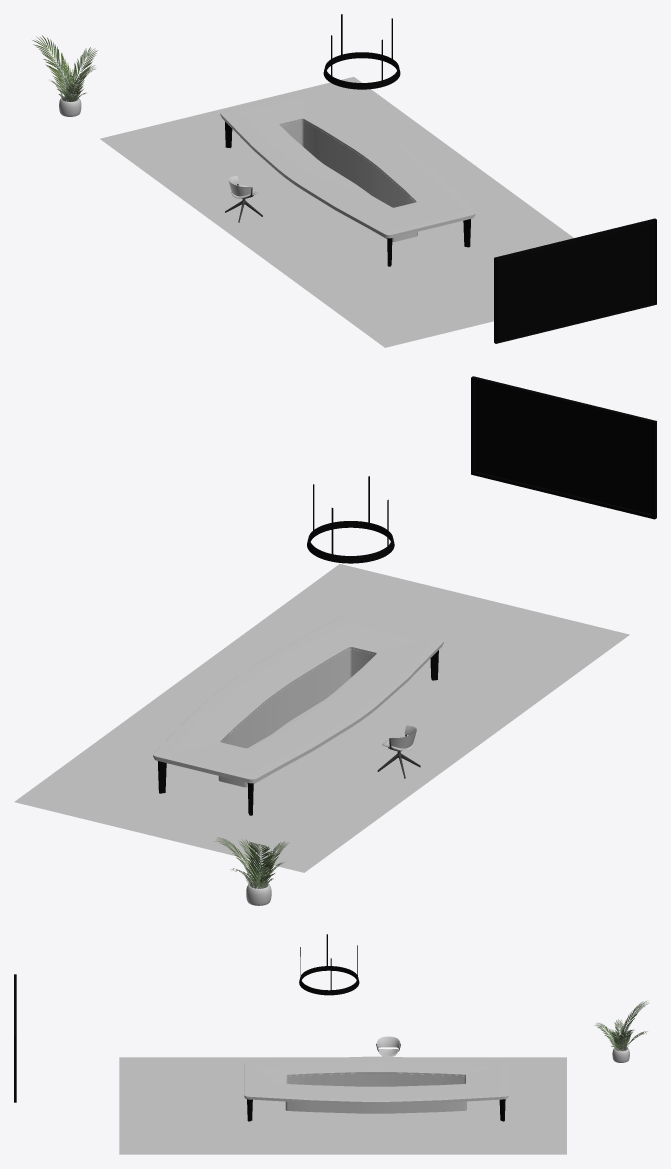
The picture shows the model from 3 angles, top to bottom: view 1: azimuth 30°, elevation 25°; view 2: azimuth 150°, elevation 25°; view 3: azimuth 270°, elevation 25°; orthographic projection. The views are drawn at different scales.
Visible parts, largest first — view 1: Plane_006, Table_1_002, Cube_023, Table_1_004, leaves, Circle_006, Table_1, Table_1_003; view 2: Plane_006, Table_1_002, Cube_023, Table_1_004, Circle_006, leaves; view 3: Plane_006, Table_1_002, Table_1_004, Circle_006, leaves, Table_1_003, Cube_023.
Part boxes in pixels (x1,y1,x2,y2): Plane_006: (100, 77, 573, 347); Table_1_002: (220, 91, 475, 236); Cube_023: (494, 218, 656, 343); Table_1_004: (281, 120, 417, 241); leaves: (32, 35, 97, 101); Circle_006: (323, 14, 400, 89); Table_1: (225, 122, 470, 266); Table_1_003: (221, 117, 474, 238); Plane_006: (14, 564, 629, 872); Table_1_002: (153, 615, 443, 781); Cube_023: (471, 376, 656, 519); Table_1_004: (218, 649, 374, 787); Circle_006: (307, 476, 394, 563); leaves: (214, 837, 289, 888); Plane_006: (119, 1057, 566, 1154); Table_1_002: (244, 1056, 508, 1103); Table_1_004: (285, 1073, 466, 1113); Circle_006: (299, 934, 359, 995); leaves: (594, 1000, 648, 1050); Table_1_003: (245, 1097, 507, 1104); Cube_023: (14, 974, 16, 1102).
Size of the model in its own units: 624 by 404 by 1527.
